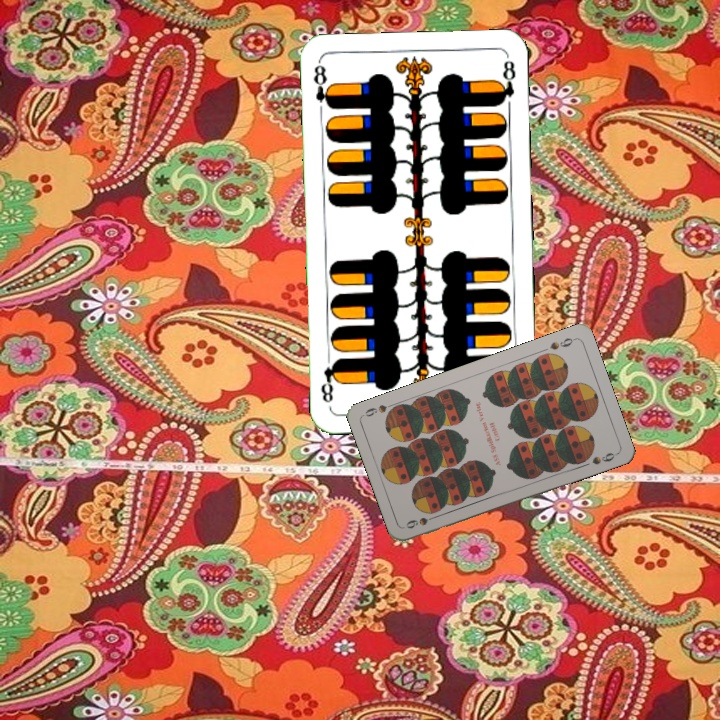E8: (309, 59, 335, 112)
S9: (401, 511, 441, 531), (546, 334, 578, 352)
